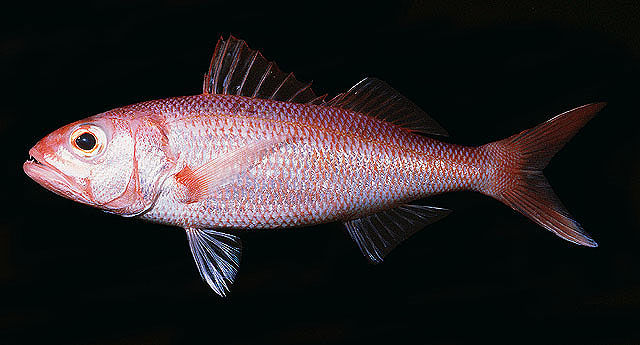fish: (22, 34, 610, 298)
